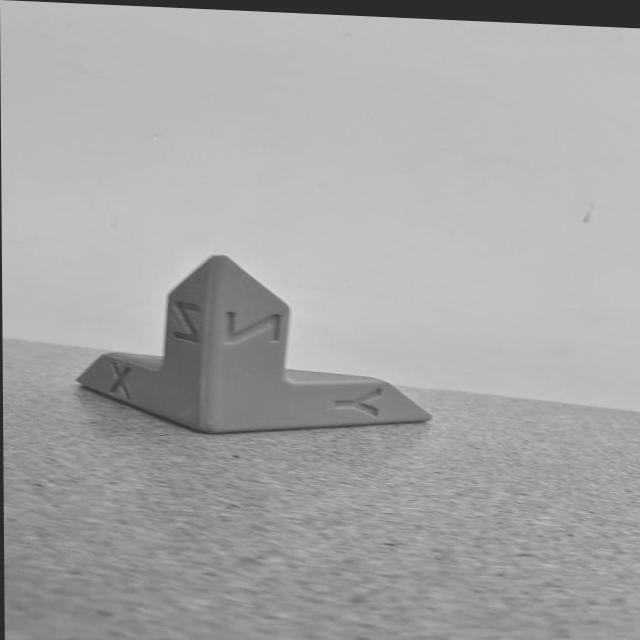eje: (67, 241, 436, 450)
